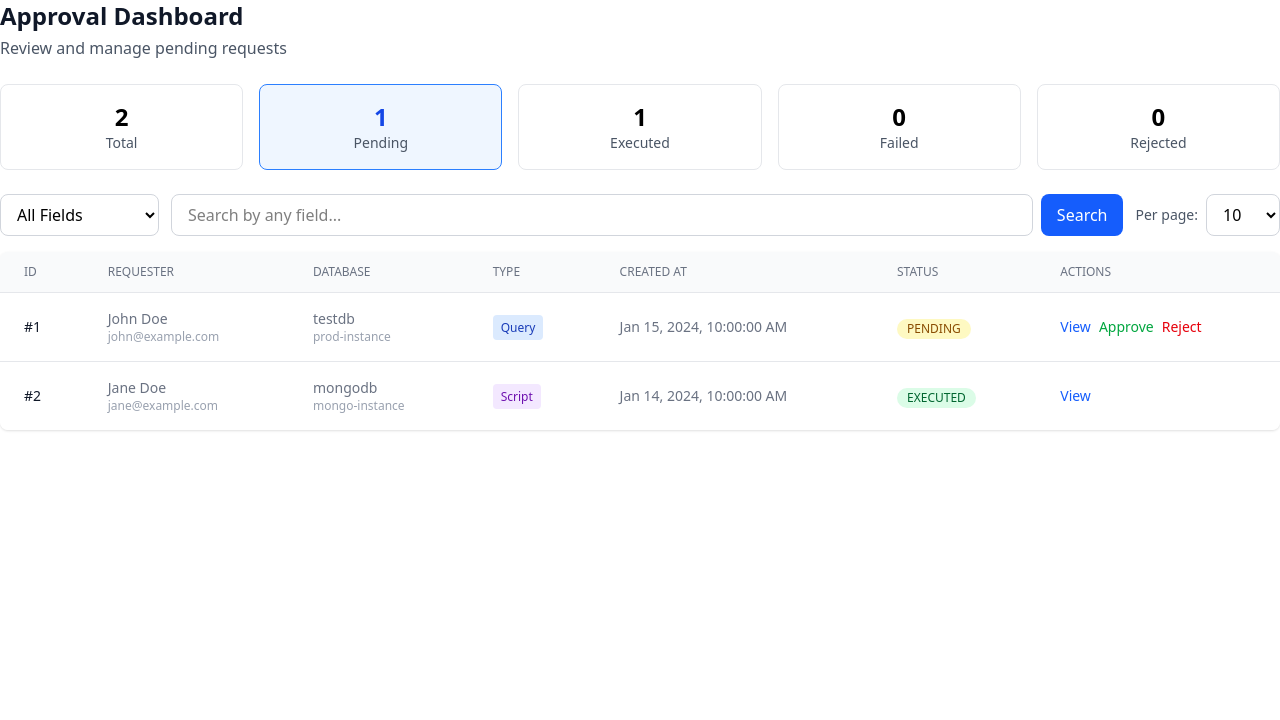
it: ApprovalDashboard › should handle reject error
Expected: the text "#1" is shown, x1=0 y1=292 x2=84 y2=362
Click the button "Reject" at (1182, 327), box x1=1162 y1=317 x2=1202 y2=337
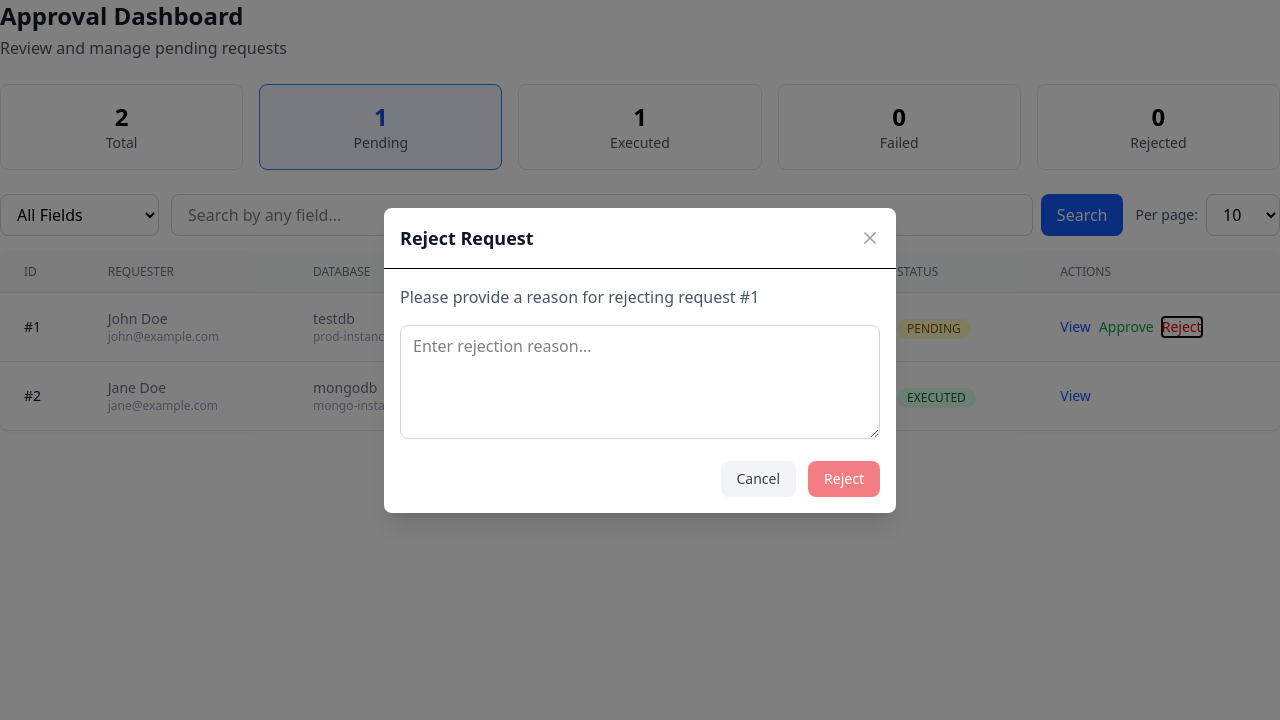
Expected: the text "Please provide a reason for rejecting request #1" is shown, x1=400 y1=286 x2=759 y2=308
Type "Not approved" into the text box with placeholder "Enter rejection reason..." at (640, 382), box x1=400 y1=324 x2=880 y2=438
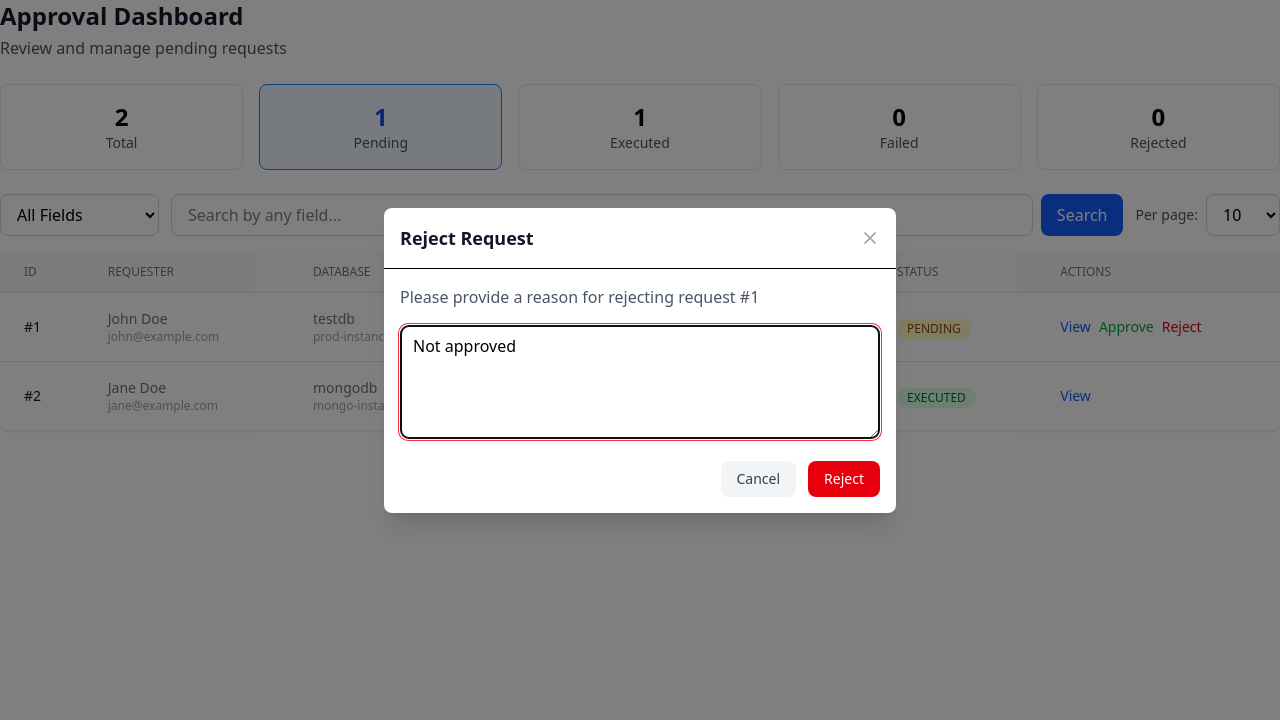
Click the button "Reject" at (844, 478), box x1=808 y1=460 x2=880 y2=496
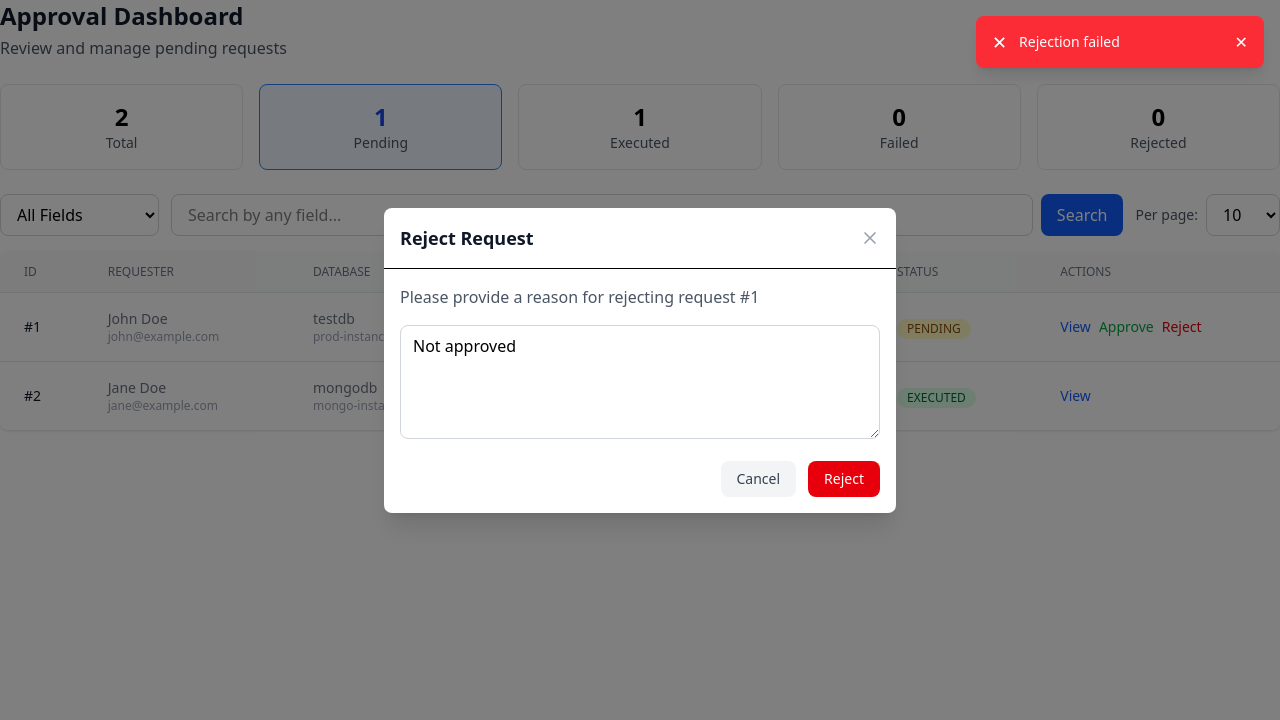
Expected: the text "Rejection failed" is shown, x1=1019 y1=32 x2=1120 y2=51
